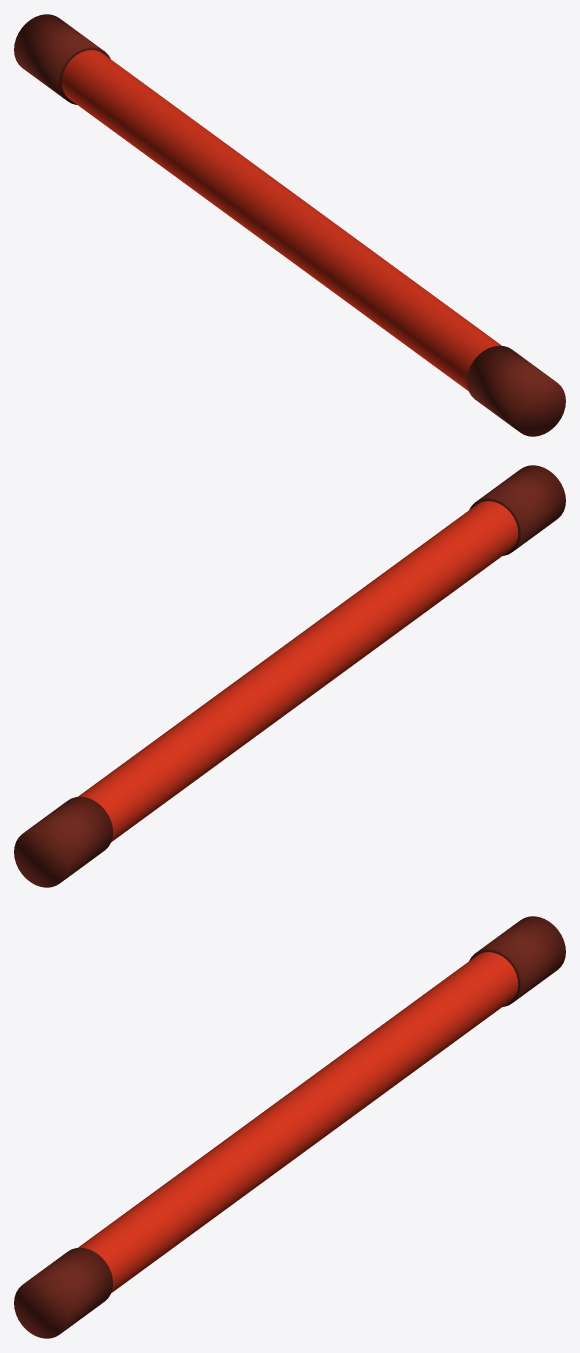
File: pipe2.obj
3 views of the same model, one above another, from view 1: azimuth 30°, elevation 25°; view 2: azimuth 150°, elevation 25°; view 3: azimuth 330°, elevation 25° (orthographic).
Parts seen in each view (by area): view 1: pipe2; view 2: pipe2; view 3: pipe2.
Part boxes in pixels (x1,y1,x2,y2): pipe2: (14, 14, 565, 436); pipe2: (14, 465, 565, 887); pipe2: (14, 916, 565, 1338).
Bounding box in the file's own units: 0.05 × 0.05 × 0.8.
1 material, 1 textured.
